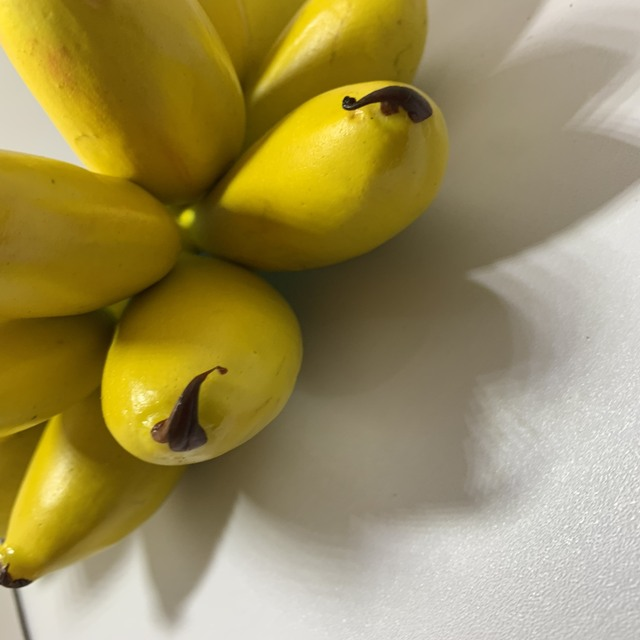Chuoi: (0, 0, 452, 593)
